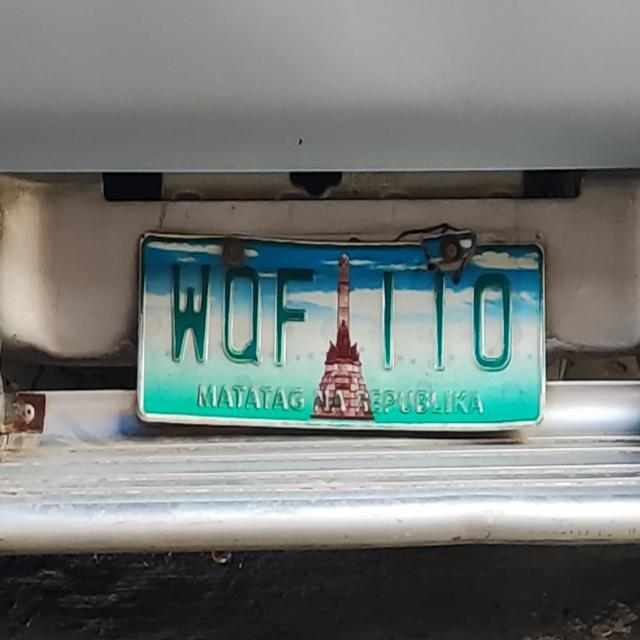LicensePlate: (130, 219, 549, 437)
